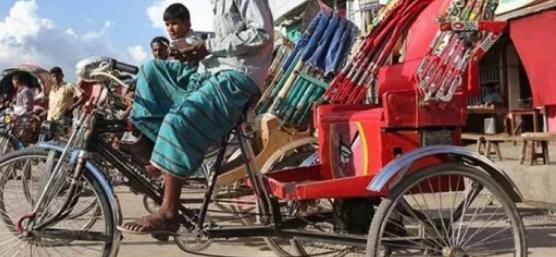objects: (175, 0, 526, 256), (0, 57, 163, 256), (170, 112, 377, 256), (392, 145, 519, 222), (366, 209, 474, 256)
